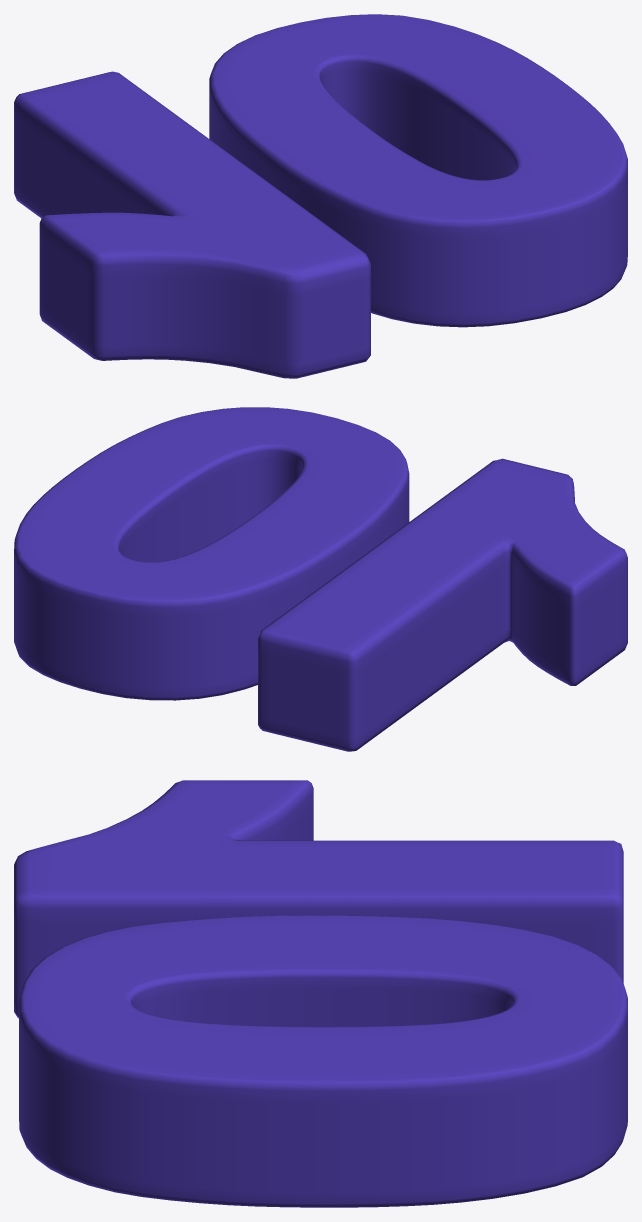
3 renders of one model, top to bottom at view 1: azimuth 30°, elevation 25°; view 2: azimuth 150°, elevation 25°; view 3: azimuth 270°, elevation 25°, orthographic. The views are drawn at different scales.
Visible parts, largest first — view 1: Ten_lambert1_0; view 2: Ten_lambert1_0; view 3: Ten_lambert1_0.
Boxes of the visible parts, x1,y1,x2,y2 form: Ten_lambert1_0: (14, 14, 627, 378); Ten_lambert1_0: (14, 407, 627, 751); Ten_lambert1_0: (14, 780, 627, 1207).
Bounding box in the file's own units: 2.59 × 0.4993 × 2.19.
